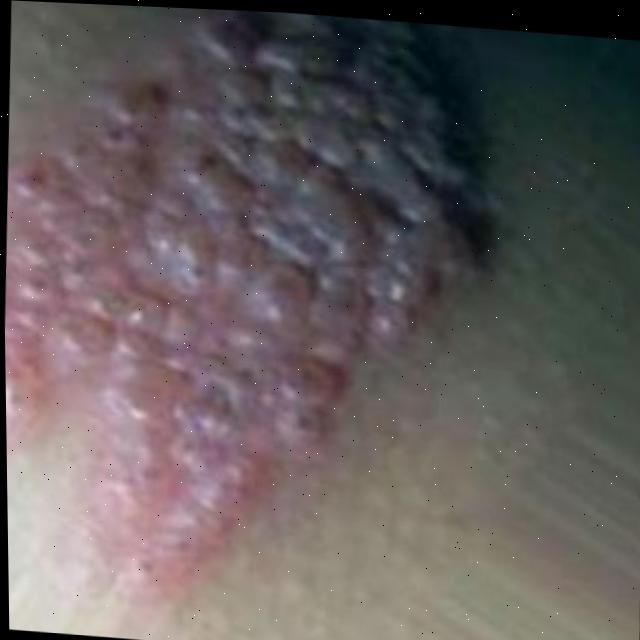Shingles: (0, 0, 481, 630)
